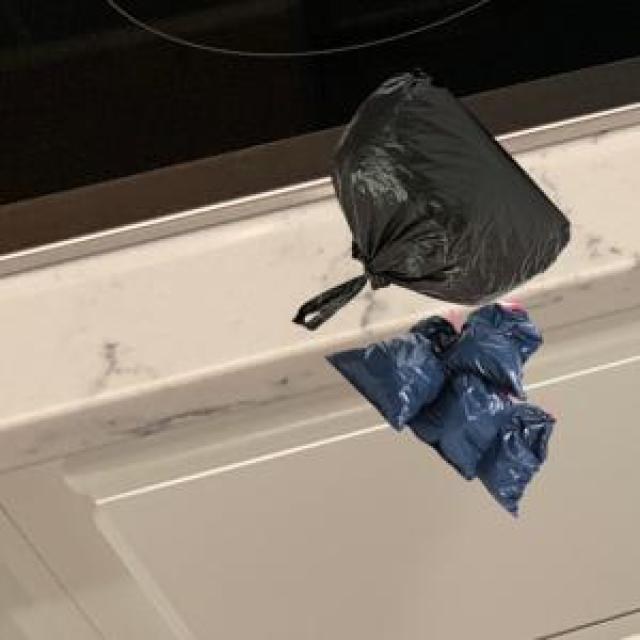Vinyl: (294, 74, 569, 329), (328, 305, 554, 513)
